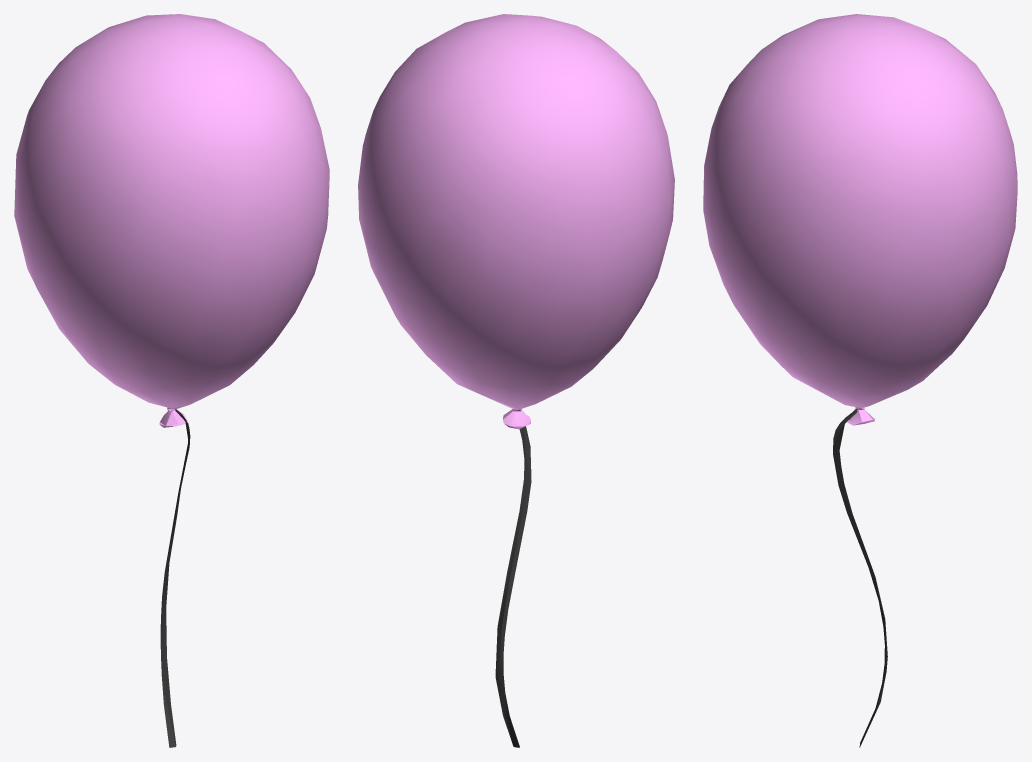
The model's file is Ballong_2.glb.
3 views of the same model, side by side, from view 1: azimuth 30°, elevation 25°; view 2: azimuth 150°, elevation 25°; view 3: azimuth 270°, elevation 25° (orthographic).
Visible parts, largest first — view 1: Ballonger.052; view 2: Ballonger.052; view 3: Ballonger.052.
Boxes of the visible parts, x1,y1,x2,y2 form: Ballonger.052: [14, 14, 329, 747]; Ballonger.052: [358, 14, 674, 747]; Ballonger.052: [703, 14, 1017, 747].
Bounding box in the file's own units: 0.3861 × 0.9686 × 0.3847.
